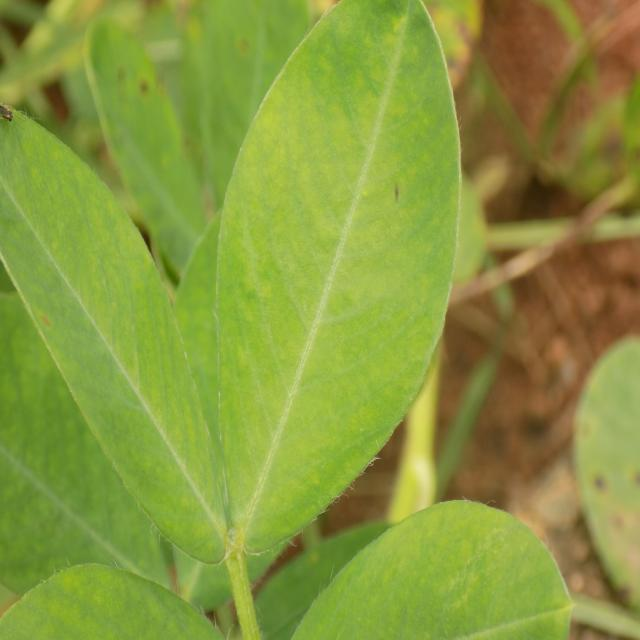Ground nut_healthy: (219, 0, 460, 564)
